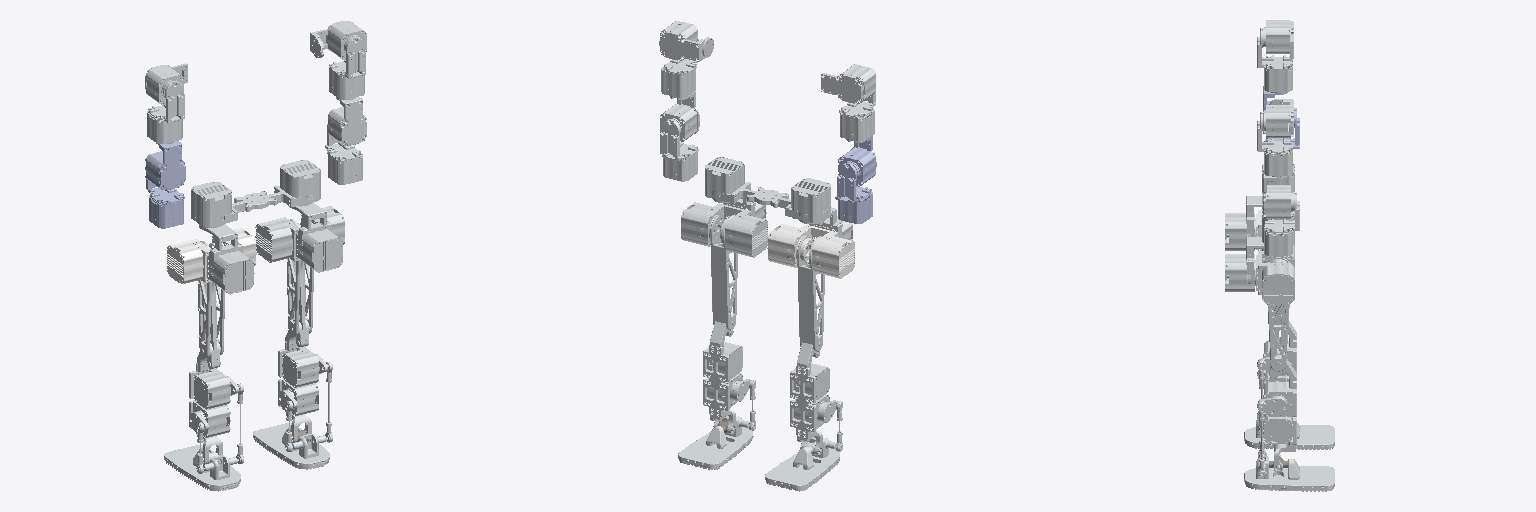
The robot description file, URDF, robot "hi_1_21_240731":
<?xml version="1.0" encoding="utf-8"?>
<!--
This URDF was automatically created by SolidWorks to URDF Exporter! Originally created by [author] ([email redacted])
Commit Version: 1.6.0-4-g7f85cfe  Build Version: 1.6.7995.38578
For more information, please see http://wiki.ros.org/sw_urdf_exporter
-->
<robot name="hi_1_21_240731">
	<link name="base_link">
		<inertial>
			<origin xyz="-7.537E-05 -9.877E-05 0.02006794" rpy="0 0 0" />
			<mass value="0.67789918" />
			<inertia ixx="0.00024244" ixy="1.12E-06" ixz="1.886E-05" iyy="0.00370034" iyz="5.3E-07" izz="0.00374356" />
		</inertial>
		<visual>
			<origin xyz="0 0 0" rpy="0 0 0" />
			<geometry>
				<mesh filename="package://hi_1_21_240731/meshes/base_link.STL" />
			</geometry>
			<material name="">
				<color rgba="0.89412 0.91373 0.92941 1" />
			</material>
		</visual>
		<collision>
			<origin xyz="0 0 0" rpy="0 0 0" />
			<geometry>
				<mesh filename="package://hi_1_21_240731/meshes/base_link.STL" />
			</geometry>
		</collision>
	</link>
	<link name="r_hip_yaw_link">
		<inertial>
			<origin xyz="-0.00012202 -0.052131 -0.052735" rpy="0 0 0" />
			<mass value="0.34954" />
			<inertia ixx="0.00025249" ixy="-4.5E-07" ixz="5.3E-07" iyy="0.00022813" iyz="-5.884E-05" izz="0.00016829" />
		</inertial>
		<visual>
			<origin xyz="0 0 0" rpy="0 0 0" />
			<geometry>
				<mesh filename="package://hi_1_21_240731/meshes/r_hip_yaw_link.STL" />
			</geometry>
			<material name="">
				<color rgba="0.89804 0.91765 0.92941 1" />
			</material>
		</visual>
		<collision>
			<origin xyz="0 0 0" rpy="0 0 0" />
			<geometry>
				<mesh filename="package://hi_1_21_240731/meshes/r_hip_yaw_link.STL" />
			</geometry>
		</collision>
	</link>
	<joint name="r_hip_yaw_joint" type="revolute">
		<origin xyz="0.075 0 0" rpy="0 0 0" />
		<parent link="base_link" />
		<child link="r_hip_yaw_link" />
		<axis xyz="0 0 1" />
		<limit lower="-0.6" upper="0.6" effort="21" velocity="21" />
	</joint>
	<link name="r_hip_roll_link">
		<inertial>
			<origin xyz="-0.00022682 -0.0021409 -0.00016674" rpy="0 0 0" />
			<mass value="0.67431" />
			<inertia ixx="0.00031647" ixy="4.2E-07" ixz="3.61E-06" iyy="0.00098969" iyz="4.2E-07" izz="0.0010163" />
		</inertial>
		<visual>
			<origin xyz="0 0 0" rpy="0 0 0" />
			<geometry>
				<mesh filename="package://hi_1_21_240731/meshes/r_hip_roll_link.STL" />
			</geometry>
			<material name="">
				<color rgba="0.89804 0.91765 0.92941 1" />
			</material>
		</visual>
		<collision>
			<origin xyz="0 0 0" rpy="0 0 0" />
			<geometry>
				<mesh filename="package://hi_1_21_240731/meshes/r_hip_roll_link.STL" />
			</geometry>
		</collision>
	</link>
	<joint name="r_hip_roll_joint" type="revolute">
		<origin xyz="0 0 -0.059" rpy="0 0 0" />
		<parent link="r_hip_yaw_link" />
		<child link="r_hip_roll_link" />
		<axis xyz="0 1 0" />
		<limit lower="-0.4" upper="0.22" effort="21" velocity="21" />
	</joint>
	<link name="r_thigh_link">
		<inertial>
			<origin xyz="0.00051013 0.0023326 -0.096411" rpy="0 0 0" />
			<mass value="0.19993" />
			<inertia ixx="0.00064072" ixy="2.1E-07" ixz="-9.29E-06" iyy="0.00063292" iyz="7.5E-06" izz="3.516E-05" />
		</inertial>
		<visual>
			<origin xyz="0 0 0" rpy="0 0 0" />
			<geometry>
				<mesh filename="package://hi_1_21_240731/meshes/r_thigh_link.STL" />
			</geometry>
			<material name="">
				<color rgba="0.89804 0.91765 0.92941 1" />
			</material>
		</visual>
		<collision>
			<origin xyz="0 0 0" rpy="0 0 0" />
			<geometry>
				<mesh filename="package://hi_1_21_240731/meshes/r_thigh_link.STL" />
			</geometry>
		</collision>
	</link>
	<joint name="r_thigh_joint" type="revolute">
		<origin xyz="0 0 0" rpy="0 0 0" />
		<parent link="r_hip_roll_link" />
		<child link="r_thigh_link" />
		<axis xyz="1 0 0" />
		<limit lower="-0.4" upper="2.25" effort="21" velocity="21" />
	</joint>
	<link name="r_calf_link">
		<inertial>
			<origin xyz="6.957E-05 -0.00092506 -0.09475741" rpy="0 0 0" />
			<mass value="0.54984799" />
			<inertia ixx="0.00073284" ixy="8.7E-07" ixz="-6.748E-05" iyy="0.00073948" iyz="-3.988E-05" izz="0.00027251" />
		</inertial>
		<visual>
			<origin xyz="0 0 0" rpy="0 0 0" />
			<geometry>
				<mesh filename="package://hi_1_21_240731/meshes/r_calf_link.STL" />
			</geometry>
			<material name="">
				<color rgba="0.89804 0.91765 0.92941 1" />
			</material>
		</visual>
		<collision>
			<origin xyz="0 0 0" rpy="0 0 0" />
			<geometry>
				<mesh filename="package://hi_1_21_240731/meshes/r_calf_link.STL" />
			</geometry>
		</collision>
	</link>
	<joint name="r_calf_joint" type="revolute">
		<origin xyz="0 0 -0.15" rpy="0 0 0" />
		<parent link="r_thigh_link" />
		<child link="r_calf_link" />
		<axis xyz="1 0 0" />
		<limit lower="-2.3" upper="0" effort="21" velocity="21" />
	</joint>
	<link name="r_ankle_pitch_link">
		<inertial>
			<origin xyz="0 0 0" rpy="0 0 0" />
			<mass value="0.011584" />
			<inertia ixx="1.12E-06" ixy="0" ixz="0" iyy="4.5E-07" iyz="0" izz="1.21E-06" />
		</inertial>
		<visual>
			<origin xyz="0 0 0" rpy="0 0 0" />
			<geometry>
				<mesh filename="package://hi_1_21_240731/meshes/r_ankle_pitch_link.STL" />
			</geometry>
			<material name="">
				<color rgba="0.65098 0.61961 0.58824 1" />
			</material>
		</visual>
		<collision>
			<origin xyz="0 0 0" rpy="0 0 0" />
			<geometry>
				<mesh filename="package://hi_1_21_240731/meshes/r_ankle_pitch_link.STL" />
			</geometry>
		</collision>
	</link>
	<joint name="r_ankle_pitch_joint" type="revolute">
		<origin xyz="0 0 -0.17545" rpy="0 0 0" />
		<parent link="r_calf_link" />
		<child link="r_ankle_pitch_link" />
		<axis xyz="1 0 0" />
		<limit lower="-0.5" upper="0.8" effort="21" velocity="21" />
	</joint>
	<link name="r_ankle_roll_link">
		<inertial>
			<origin xyz="2.06E-06 0.016631 -0.021104" rpy="0 0 0" />
			<mass value="0.26606" />
			<inertia ixx="0.00039542" ixy="1E-08" ixz="-2E-08" iyy="0.00010328" iyz="2.208E-05" izz="0.00045941" />
		</inertial>
		<visual>
			<origin xyz="0 0 0" rpy="0 0 0" />
			<geometry>
				<mesh filename="package://hi_1_21_240731/meshes/r_ankle_roll_link.STL" />
			</geometry>
			<material name="">
				<color rgba="0.89804 0.91765 0.92941 1" />
			</material>
		</visual>
		<collision>
			<origin xyz="0 0 0" rpy="0 0 0" />
			<geometry>
				<mesh filename="package://hi_1_21_240731/meshes/r_ankle_roll_link.STL" />
			</geometry>
		</collision>
	</link>
	<joint name="r_ankle_roll_joint" type="revolute">
		<origin xyz="0 0 0" rpy="0 0 0" />
		<parent link="r_ankle_pitch_link" />
		<child link="r_ankle_roll_link" />
		<axis xyz="0 1 0" />
		<limit lower="-0.4" upper="0.4" effort="21" velocity="21" />
	</joint>
	<link name="l_hip_yaw_link">
		<inertial>
			<origin xyz="6.958E-05 -0.052878 -0.052882" rpy="0 0 0" />
			<mass value="0.34954" />
			<inertia ixx="0.00025057" ixy="2.6E-07" ixz="-3.9E-07" iyy="0.00023311" iyz="-5.987E-05" izz="0.00016652" />
		</inertial>
		<visual>
			<origin xyz="0 0 0" rpy="0 0 0" />
			<geometry>
				<mesh filename="package://hi_1_21_240731/meshes/l_hip_yaw_link.STL" />
			</geometry>
			<material name="">
				<color rgba="0.89804 0.91765 0.92941 1" />
			</material>
		</visual>
		<collision>
			<origin xyz="0 0 0" rpy="0 0 0" />
			<geometry>
				<mesh filename="package://hi_1_21_240731/meshes/l_hip_yaw_link.STL" />
			</geometry>
		</collision>
	</link>
	<joint name="l_hip_yaw_joint" type="revolute">
		<origin xyz="-0.075 0 0" rpy="0 0 0" />
		<parent link="base_link" />
		<child link="l_hip_yaw_link" />
		<axis xyz="0 0 1" />
		<limit lower="-0.6" upper="0.6" effort="21" velocity="21" />
	</joint>
	<link name="l_hip_roll_link">
		<inertial>
			<origin xyz="0.00022682 -0.00198932 -0.00016674" rpy="0 0 0" />
			<mass value="0.67430799" />
			<inertia ixx="0.00032559" ixy="-3.9E-07" ixz="-2.13E-06" iyy="0.00101903" iyz="4E-07" izz="0.00104452" />
		</inertial>
		<visual>
			<origin xyz="0 0 0" rpy="0 0 0" />
			<geometry>
				<mesh filename="package://hi_1_21_240731/meshes/l_hip_roll_link.STL" />
			</geometry>
			<material name="">
				<color rgba="1 1 1 1" />
			</material>
		</visual>
		<collision>
			<origin xyz="0 0 0" rpy="0 0 0" />
			<geometry>
				<mesh filename="package://hi_1_21_240731/meshes/l_hip_roll_link.STL" />
			</geometry>
		</collision>
	</link>
	<joint name="l_hip_roll_joint" type="revolute">
		<origin xyz="0 0 -0.059" rpy="0 0 0" />
		<parent link="l_hip_yaw_link" />
		<child link="l_hip_roll_link" />
		<axis xyz="0 1 0" />
		<limit lower="-0.22" upper="0.4" effort="21" velocity="21" />
	</joint>
	<link name="l_thigh_link">
		<inertial>
			<origin xyz="0.00051013 0.0023326 -0.096411" rpy="0 0 0" />
			<mass value="0.19993" />
			<inertia ixx="0.00064072" ixy="2.1E-07" ixz="-9.29E-06" iyy="0.00063292" iyz="7.5E-06" izz="3.516E-05" />
		</inertial>
		<visual>
			<origin xyz="0 0 0" rpy="0 0 0" />
			<geometry>
				<mesh filename="package://hi_1_21_240731/meshes/r_thigh_link.STL" />
			</geometry>
			<material name="">
				<color rgba="0.89804 0.91765 0.92941 1" />
			</material>
		</visual>
		<collision>
			<origin xyz="0 0 0" rpy="0 0 0" />
			<geometry>
				<mesh filename="package://hi_1_21_240731/meshes/r_thigh_link.STL" />
			</geometry>
		</collision>
	</link>
	<joint name="l_thigh_joint" type="revolute">
		<origin xyz="0 0 0" rpy="0 0 0" />
		<parent link="l_hip_roll_link" />
		<child link="l_thigh_link" />
		<axis xyz="1 0 0" />
		<limit lower="-0.4" upper="2.25" effort="21" velocity="21" />
	</joint>
	<link name="l_calf_link">
		<inertial>
			<origin xyz="6.957E-05 -0.00092506 -0.09475741" rpy="0 0 0" />
			<mass value="0.54984799" />
			<inertia ixx="0.00073284" ixy="8.7E-07" ixz="-6.748E-05" iyy="0.00073948" iyz="-3.988E-05" izz="0.00027251" />
		</inertial>
		<visual>
			<origin xyz="0 0 0" rpy="0 0 0" />
			<geometry>
				<mesh filename="package://hi_1_21_240731/meshes/r_calf_link.STL" />
			</geometry>
			<material name="">
				<color rgba="0.89804 0.91765 0.92941 1" />
			</material>
		</visual>
		<collision>
			<origin xyz="0 0 0" rpy="0 0 0" />
			<geometry>
				<mesh filename="package://hi_1_21_240731/meshes/r_calf_link.STL" />
			</geometry>
		</collision>
	</link>
	<joint name="l_calf_joint" type="revolute">
		<origin xyz="0 0 -0.15" rpy="0 0 0" />
		<parent link="l_thigh_link" />
		<child link="l_calf_link" />
		<axis xyz="1 0 0" />
		<limit lower="-2.3" upper="0" effort="21" velocity="21" />
	</joint>
	<link name="l_ankle_pitch_link">
		<inertial>
			<origin xyz="0 0 0" rpy="0 0 0" />
			<mass value="0.011584" />
			<inertia ixx="1.12E-06" ixy="0" ixz="0" iyy="4.5E-07" iyz="0" izz="1.21E-06" />
		</inertial>
		<visual>
			<origin xyz="0 0 0" rpy="0 0 0" />
			<geometry>
				<mesh filename="package://hi_1_21_240731/meshes/l_ankle_pitch_link.STL" />
			</geometry>
			<material name="">
				<color rgba="0.89804 0.91765 0.92941 1" />
			</material>
		</visual>
		<collision>
			<origin xyz="0 0 0" rpy="0 0 0" />
			<geometry>
				<mesh filename="package://hi_1_21_240731/meshes/l_ankle_pitch_link.STL" />
			</geometry>
		</collision>
	</link>
	<joint name="l_ankle_pitch_joint" type="revolute">
		<origin xyz="0 0 -0.17545" rpy="0 0 0" />
		<parent link="l_calf_link" />
		<child link="l_ankle_pitch_link" />
		<axis xyz="1 0 0" />
		<limit lower="-0.5" upper="0.8" effort="21" velocity="21" />
	</joint>
	<link name="l_ankle_roll_link">
		<inertial>
			<origin xyz="0 0.017001 -0.021335" rpy="0 0 0" />
			<mass value="0.26319" />
			<inertia ixx="0.00039075" ixy="0" ixz="2E-08" iyy="0.00010189" iyz="2E-05" izz="0.00045603" />
		</inertial>
		<visual>
			<origin xyz="0 0 0" rpy="0 0 0" />
			<geometry>
				<mesh filename="package://hi_1_21_240731/meshes/l_ankle_roll_link.STL" />
			</geometry>
			<material name="">
				<color rgba="0.89804 0.91765 0.92941 1" />
			</material>
		</visual>
		<collision>
			<origin xyz="0 0 0" rpy="0 0 0" />
			<geometry>
				<mesh filename="package://hi_1_21_240731/meshes/l_ankle_roll_link.STL" />
			</geometry>
		</collision>
	</link>
	<joint name="l_ankle_roll_joint" type="revolute">
		<origin xyz="0 0 0" rpy="0 0 0" />
		<parent link="l_ankle_pitch_link" />
		<child link="l_ankle_roll_link" />
		<axis xyz="0 1 0" />
		<limit lower="-3.14" upper="3.14" effort="21" velocity="21" />
	</joint>
	<link name="waist_yaw_link">
		<inertial>
			<origin xyz="-1.562E-05 -0.00801071 0.12043115" rpy="0 0 0" />
			<mass value="2.442" />
			<inertia ixx="0.0038077" ixy="-6E-08" ixz="-1.15E-06" iyy="0.00450468" iyz="-9.585E-05" izz="0.00218872" />
		</inertial>
		<visual>
			<origin xyz="0 0 0" rpy="0 0 0" />
			<geometry>
				<mesh filename="package://hi_1_21_240731/meshes/waist_yaw_link.STL" />
			</geometry>
			<material name="">
				<color rgba="1 1 1 1" />
			</material>
		</visual>
		<collision>
			<origin xyz="0 0 0" rpy="0 0 0" />
			<geometry>
				<mesh filename="package://hi_1_21_240731/meshes/waist_yaw_link.STL" />
			</geometry>
		</collision>
	</link>
	<joint name="waist_yaw_joint" type="revolute">
		<origin xyz="0 0 0.0161" rpy="0 0 0" />
		<parent link="base_link" />
		<child link="waist_yaw_link" />
		<axis xyz="0 0 1" />
		<limit lower="-3.14" upper="3.14" effort="21" velocity="21" />
	</joint>
	<link name="r_shoulder_pitch_link">
		<inertial>
			<origin xyz="0.04726596 -0.00143519 -0.00014687" rpy="0 0 0" />
			<mass value="0.24141449" />
			<inertia ixx="9.039E-05" ixy="9.63E-06" ixz="-4.3E-07" iyy="0.00011586" iyz="1.1E-07" izz="0.00012631" />
		</inertial>
		<visual>
			<origin xyz="0 0 0" rpy="0 0 0" />
			<geometry>
				<mesh filename="package://hi_1_21_240731/meshes/r_shoulder_pitch_link.STL" />
			</geometry>
			<material name="">
				<color rgba="0.89804 0.91765 0.92941 1" />
			</material>
		</visual>
		<collision>
			<origin xyz="0 0 0" rpy="0 0 0" />
			<geometry>
				<mesh filename="package://hi_1_21_240731/meshes/r_shoulder_pitch_link.STL" />
			</geometry>
		</collision>
	</link>
	<joint name="r_shoulder_pitch_joint" type="revolute">
		<origin xyz="0.103 0 0.219" rpy="0 0 0" />
		<parent link="waist_yaw_link" />
		<child link="r_shoulder_pitch_link" />
		<axis xyz="1 0 0" />
		<limit lower="-3.14" upper="3.14" effort="21" velocity="21" />
	</joint>
	<link name="r_shoulder_roll_link">
		<inertial>
			<origin xyz="-0.00011391 0.020532 -0.06124" rpy="0 0 0" />
			<mass value="0.23929" />
			<inertia ixx="0.00015993" ixy="-3.1E-07" ixz="2E-06" iyy="0.00014377" iyz="3.136E-05" izz="9.482E-05" />
		</inertial>
		<visual>
			<origin xyz="0 0 0" rpy="0 0 0" />
			<geometry>
				<mesh filename="package://hi_1_21_240731/meshes/r_shoulder_roll_link.STL" />
			</geometry>
			<material name="">
				<color rgba="0.89804 0.91765 0.92941 1" />
			</material>
		</visual>
		<collision>
			<origin xyz="0 0 0" rpy="0 0 0" />
			<geometry>
				<mesh filename="package://hi_1_21_240731/meshes/r_shoulder_roll_link.STL" />
			</geometry>
		</collision>
	</link>
	<joint name="r_shoulder_roll_joint" type="revolute">
		<origin xyz="0.051 -0.0234 0" rpy="0 0 0" />
		<parent link="r_shoulder_pitch_link" />
		<child link="r_shoulder_roll_link" />
		<axis xyz="0 1 0" />
		<limit lower="-3.14" upper="3.14" effort="21" velocity="21" />
	</joint>
	<link name="r_elbow_yaw_link">
		<inertial>
			<origin xyz="-7.829E-05 0.00068959 -0.04659112" rpy="0 0 0" />
			<mass value="0.24141449" />
			<inertia ixx="0.00012313" ixy="-7.5E-07" ixz="5.1E-07" iyy="0.00011397" iyz="8.06E-06" izz="8.924E-05" />
		</inertial>
		<visual>
			<origin xyz="0 0 0" rpy="0 0 0" />
			<geometry>
				<mesh filename="package://hi_1_21_240731/meshes/r_elbow_yaw_link.STL" />
			</geometry>
			<material name="">
				<color rgba="0.89804 0.91765 0.92941 1" />
			</material>
		</visual>
		<collision>
			<origin xyz="0 0 0" rpy="0 0 0" />
			<geometry>
				<mesh filename="package://hi_1_21_240731/meshes/r_elbow_yaw_link.STL" />
			</geometry>
		</collision>
	</link>
	<joint name="r_elbow_yaw_joint" type="revolute">
		<origin xyz="0 0.0234 -0.0867" rpy="0 0 0" />
		<parent link="r_shoulder_roll_link" />
		<child link="r_elbow_yaw_link" />
		<axis xyz="0 0 1" />
		<limit lower="-3.14" upper="3.14" effort="21" velocity="21" />
	</joint>
	<link name="r_elbow_roll_link">
		<inertial>
			<origin xyz="-0.00281481 -0.01933601 -0.06124017" rpy="0 0 0" />
			<mass value="0.239293" />
			<inertia ixx="0.00015951" ixy="-3.1E-07" ixz="-1.35E-06" iyy="0.00014379" iyz="-3.134E-05" izz="9.441E-05" />
		</inertial>
		<visual>
			<origin xyz="0 0 0" rpy="0 0 0" />
			<geometry>
				<mesh filename="package://hi_1_21_240731/meshes/r_elbow_roll_link.STL" />
			</geometry>
			<material name="">
				<color rgba="0.89804 0.91765 0.92941 1" />
			</material>
		</visual>
		<collision>
			<origin xyz="0 0 0" rpy="0 0 0" />
			<geometry>
				<mesh filename="package://hi_1_21_240731/meshes/r_elbow_roll_link.STL" />
			</geometry>
		</collision>
	</link>
	<joint name="r_elbow_roll_joint" type="revolute">
		<origin xyz="0 0.0225 -0.0501" rpy="0 0 0" />
		<parent link="r_elbow_yaw_link" />
		<child link="r_elbow_roll_link" />
		<axis xyz="0 1 0" />
		<limit lower="-3.14" upper="3.14" effort="21" velocity="21" />
	</joint>
	<link name="l_shoulder_pitch_link">
		<inertial>
			<origin xyz="-0.04994717 -0.00177898 0.0001557" rpy="0 0 0" />
			<mass value="0.22773061" />
			<inertia ixx="8.793E-05" ixy="-6.08E-06" ixz="5.3E-07" iyy="8.593E-05" iyz="1.2E-07" izz="9.585E-05" />
		</inertial>
		<visual>
			<origin xyz="0 0 0" rpy="0 0 0" />
			<geometry>
				<mesh filename="package://hi_1_21_240731/meshes/l_shoulder_pitch_link.STL" />
			</geometry>
			<material name="">
				<color rgba="0.89804 0.91765 0.92941 1" />
			</material>
		</visual>
		<collision>
			<origin xyz="0 0 0" rpy="0 0 0" />
			<geometry>
				<mesh filename="package://hi_1_21_240731/meshes/l_shoulder_pitch_link.STL" />
			</geometry>
		</collision>
	</link>
	<joint name="l_shoulder_pitch_joint" type="revolute">
		<origin xyz="-0.103 0 0.219" rpy="0 0 0" />
		<parent link="waist_yaw_link" />
		<child link="l_shoulder_pitch_link" />
		<axis xyz="1 0 0" />
		<limit lower="-3.14" upper="3.14" effort="21" velocity="21" />
	</joint>
	<link name="l_shoulder_roll_link">
		<inertial>
			<origin xyz="0.00011391 0.02053236 -0.06124018" rpy="0 0 0" />
			<mass value="0.23929294" />
			<inertia ixx="0.00015993" ixy="3.1E-07" ixz="-2E-06" iyy="0.00014377" iyz="3.136E-05" izz="9.482E-05" />
		</inertial>
		<visual>
			<origin xyz="0 0 0" rpy="0 0 0" />
			<geometry>
				<mesh filename="package://hi_1_21_240731/meshes/l_shoulder_roll_link.STL" />
			</geometry>
			<material name="">
				<color rgba="0.89804 0.91765 0.92941 1" />
			</material>
		</visual>
		<collision>
			<origin xyz="0 0 0" rpy="0 0 0" />
			<geometry>
				<mesh filename="package://hi_1_21_240731/meshes/l_shoulder_roll_link.STL" />
			</geometry>
		</collision>
	</link>
	<joint name="l_shoulder_roll_joint" type="revolute">
		<origin xyz="-0.051 -0.0234 0" rpy="0 0 0" />
		<parent link="l_shoulder_pitch_link" />
		<child link="l_shoulder_roll_link" />
		<axis xyz="0 1 0" />
		<limit lower="-3.14" upper="3.14" effort="21" velocity="21" />
	</joint>
	<link name="l_elbow_yaw_link">
		<inertial>
			<origin xyz="3.261E-05 0.00087374 -0.0482023" rpy="0 0 0" />
			<mass value="0.23279871" />
			<inertia ixx="0.00010527" ixy="7E-07" ixz="-3E-08" iyy="9.636E-05" iyz="6.22E-06" izz="8.775E-05" />
		</inertial>
		<visual>
			<origin xyz="0 0 0" rpy="0 0 0" />
			<geometry>
				<mesh filename="package://hi_1_21_240731/meshes/l_elbow_yaw_link.STL" />
			</geometry>
			<material name="">
				<color rgba="0.79216 0.81961 0.93333 1" />
			</material>
		</visual>
		<collision>
			<origin xyz="0 0 0" rpy="0 0 0" />
			<geometry>
				<mesh filename="package://hi_1_21_240731/meshes/l_elbow_yaw_link.STL" />
			</geometry>
		</collision>
	</link>
	<joint name="l_elbow_yaw_joint" type="revolute">
		<origin xyz="0 0.0234 -0.0867" rpy="0 0 0" />
		<parent link="l_shoulder_roll_link" />
		<child link="l_elbow_yaw_link" />
		<axis xyz="0 0 1" />
		<limit lower="-3.14" upper="3.14" effort="21" velocity="21" />
	</joint>
	<link name="l_elbow_roll_link">
		<inertial>
			<origin xyz="0.00275142 -0.01938616 -0.0620045" rpy="0 0 0" />
			<mass value="0.22957426" />
			<inertia ixx="0.00015402" ixy="3.3E-07" ixz="1.62E-06" iyy="0.0001391" iyz="-3.111E-05" izz="9.087E-05" />
		</inertial>
		<visual>
			<origin xyz="0 0 0" rpy="0 0 0" />
			<geometry>
				<mesh filename="package://hi_1_21_240731/meshes/l_elbow_roll_link.STL" />
			</geometry>
			<material name="">
				<color rgba="0.79216 0.81961 0.93333 1" />
			</material>
		</visual>
		<collision>
			<origin xyz="0 0 0" rpy="0 0 0" />
			<geometry>
				<mesh filename="package://hi_1_21_240731/meshes/l_elbow_roll_link.STL" />
			</geometry>
		</collision>
	</link>
	<joint name="l_elbow_roll_link" type="revolute">
		<origin xyz="0 0.0225 -0.0501" rpy="0 0 0" />
		<parent link="l_elbow_yaw_link" />
		<child link="l_elbow_roll_link" />
		<axis xyz="0 1 0" />
		<limit lower="-3.14" upper="3.14" effort="21" velocity="21" />
	</joint>
</robot>

--- Render facts (derived) ---
The picture shows the robot from 3 angles, left to right: view 1: azimuth 30°, elevation 25°; view 2: azimuth 150°, elevation 25°; view 3: azimuth 270°, elevation 25°; orthographic projection.
Robot: hi_1_21_240731 — 22 links, 21 joints (21 revolute); root link base_link; default pose: all joints at 0.
Links seen in each view (by area): view 1: base_link, r_calf_link, l_calf_link, l_hip_yaw_link, r_hip_yaw_link, r_thigh_link, l_hip_roll_link, l_thigh_link, r_hip_roll_link, r_ankle_roll_link, l_ankle_roll_link, l_shoulder_roll_link (+7 smaller); view 2: base_link, l_hip_roll_link, r_calf_link, l_calf_link, r_hip_roll_link, r_thigh_link, l_thigh_link, l_ankle_roll_link, r_ankle_roll_link, r_elbow_roll_link, l_elbow_roll_link, r_shoulder_pitch_link (+6 smaller); view 3: r_calf_link, r_ankle_roll_link, r_hip_roll_link, r_thigh_link, r_hip_yaw_link, l_ankle_roll_link, r_elbow_roll_link, l_hip_yaw_link, r_shoulder_roll_link, l_shoulder_roll_link, r_shoulder_pitch_link, r_elbow_yaw_link (+2 smaller).
Boxes of the visible links, x1,y1,x2,y2 form: base_link: (191, 160, 320, 227); r_calf_link: (278, 341, 332, 451); l_calf_link: (189, 363, 243, 473); l_hip_yaw_link: (199, 224, 254, 294); r_hip_yaw_link: (289, 202, 342, 272); r_thigh_link: (285, 219, 313, 350); l_hip_roll_link: (167, 228, 256, 283); l_thigh_link: (197, 241, 224, 371); r_hip_roll_link: (255, 206, 344, 262); r_ankle_roll_link: (253, 423, 329, 469); l_ankle_roll_link: (164, 445, 240, 491); l_shoulder_roll_link: (147, 81, 184, 143); base_link: (705, 157, 830, 222); l_hip_roll_link: (767, 223, 854, 278); r_calf_link: (703, 342, 755, 433); l_calf_link: (790, 363, 842, 454); r_hip_roll_link: (681, 202, 767, 257); r_thigh_link: (710, 215, 737, 352); l_thigh_link: (797, 236, 824, 373); l_ankle_roll_link: (765, 437, 839, 491); r_ankle_roll_link: (678, 415, 753, 469); r_elbow_roll_link: (660, 120, 698, 181); l_elbow_roll_link: (835, 163, 872, 223); r_shoulder_pitch_link: (659, 21, 713, 61); r_calf_link: (1257, 381, 1296, 477); r_ankle_roll_link: (1244, 454, 1334, 491); r_hip_roll_link: (1256, 245, 1294, 303); r_thigh_link: (1264, 256, 1296, 388); r_hip_yaw_link: (1225, 237, 1263, 291); l_ankle_roll_link: (1244, 418, 1334, 449); r_elbow_roll_link: (1264, 192, 1299, 255); l_hip_yaw_link: (1225, 196, 1262, 250); r_shoulder_roll_link: (1257, 112, 1292, 176); l_shoulder_roll_link: (1257, 28, 1292, 91); r_shoulder_pitch_link: (1263, 98, 1293, 137); r_elbow_yaw_link: (1263, 170, 1292, 218).
Bounding box of the posed robot: 0.3515 × 0.1694 × 0.6718 m (x, y, z).
Meshes: 20 distinct files referenced, 21 mesh visuals loaded (19 binary STL); not drawn: 1 (reference not matched to a file when rendering).